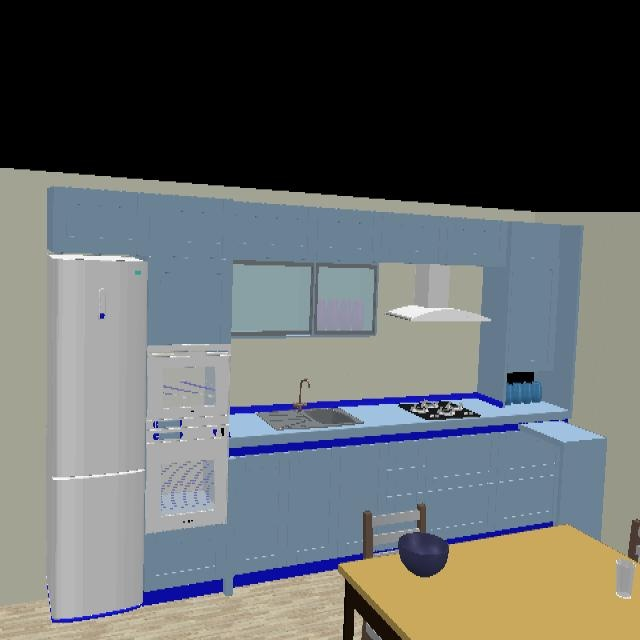cabinet: (144, 423, 607, 592)
chair: (363, 504, 427, 559)
countertop: (229, 400, 606, 540)
fridge: (45, 255, 150, 625)
microwave: (147, 344, 231, 420)
oven: (146, 416, 228, 533)
sink: (258, 408, 363, 432)
stove: (397, 401, 481, 420)
table: (340, 525, 640, 640)
